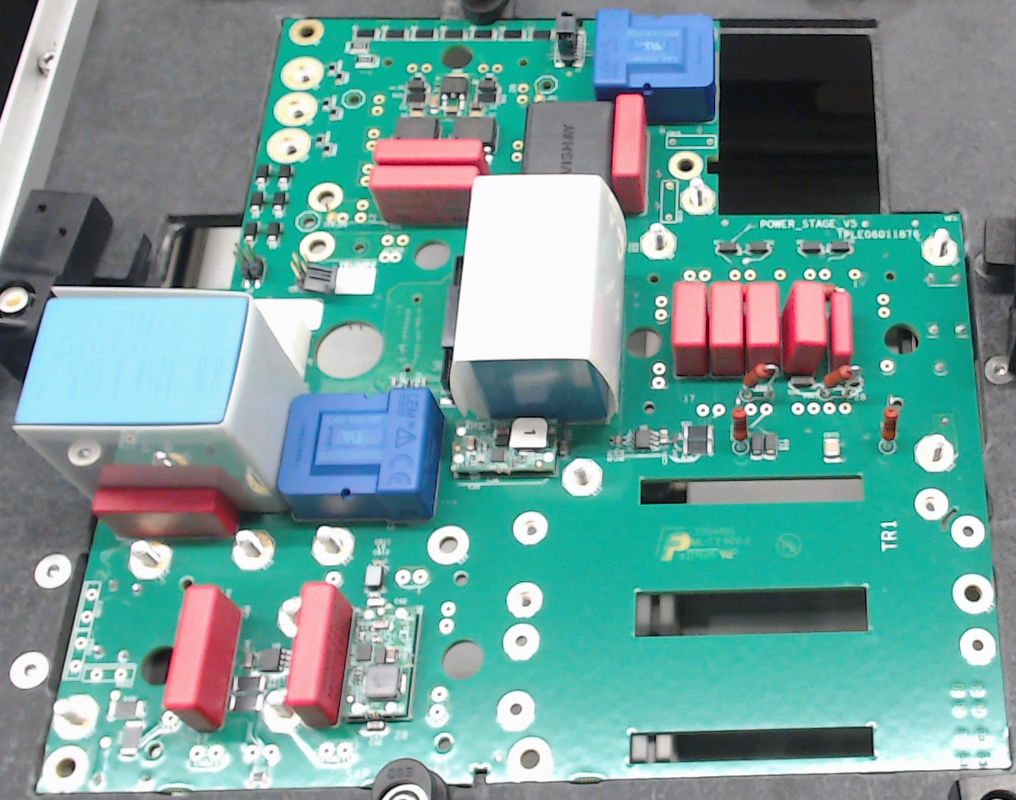comp1: (279, 387, 445, 522), (593, 9, 718, 121)
comp2: (163, 585, 242, 732), (286, 583, 351, 726), (90, 488, 241, 536), (369, 161, 479, 225), (610, 93, 649, 214), (780, 279, 826, 376), (742, 278, 782, 384), (671, 278, 707, 380), (708, 280, 743, 377), (370, 136, 486, 164), (827, 289, 856, 367)
comp3: (523, 99, 612, 181)
comp4: (13, 287, 310, 514), (451, 174, 630, 426)
